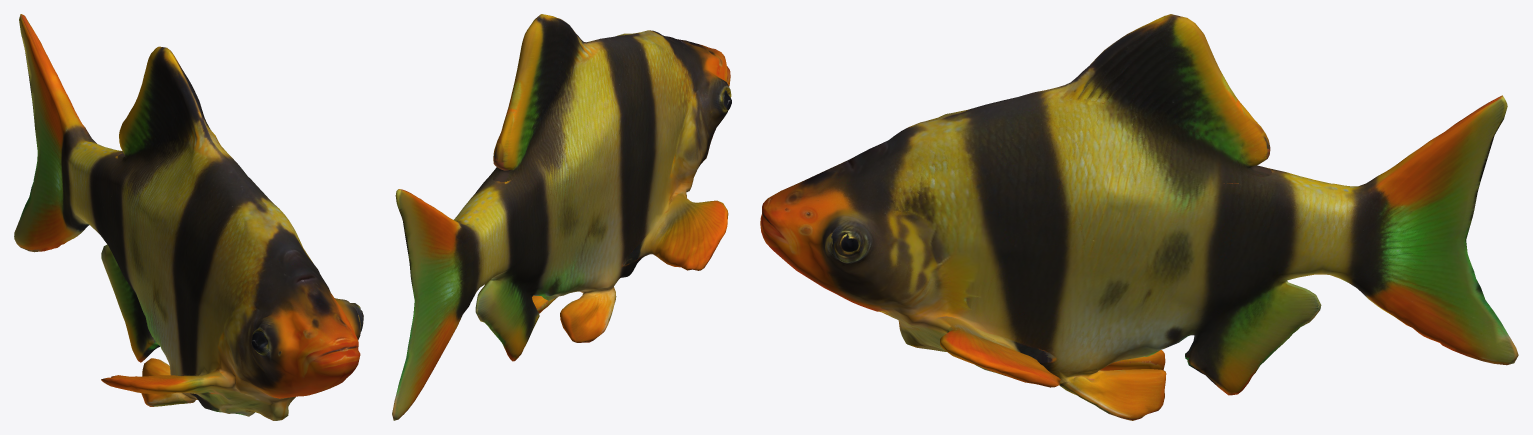
File: sumatra_0604071900_texture.glb
3 renders of one model, left to right at view 1: azimuth 30°, elevation 25°; view 2: azimuth 150°, elevation 25°; view 3: azimuth 270°, elevation 25°, orthographic. The views are drawn at different scales.
Size of the model in its own units: 0.7991 by 1.12 by 1.99.
1 material, 1 textured.
